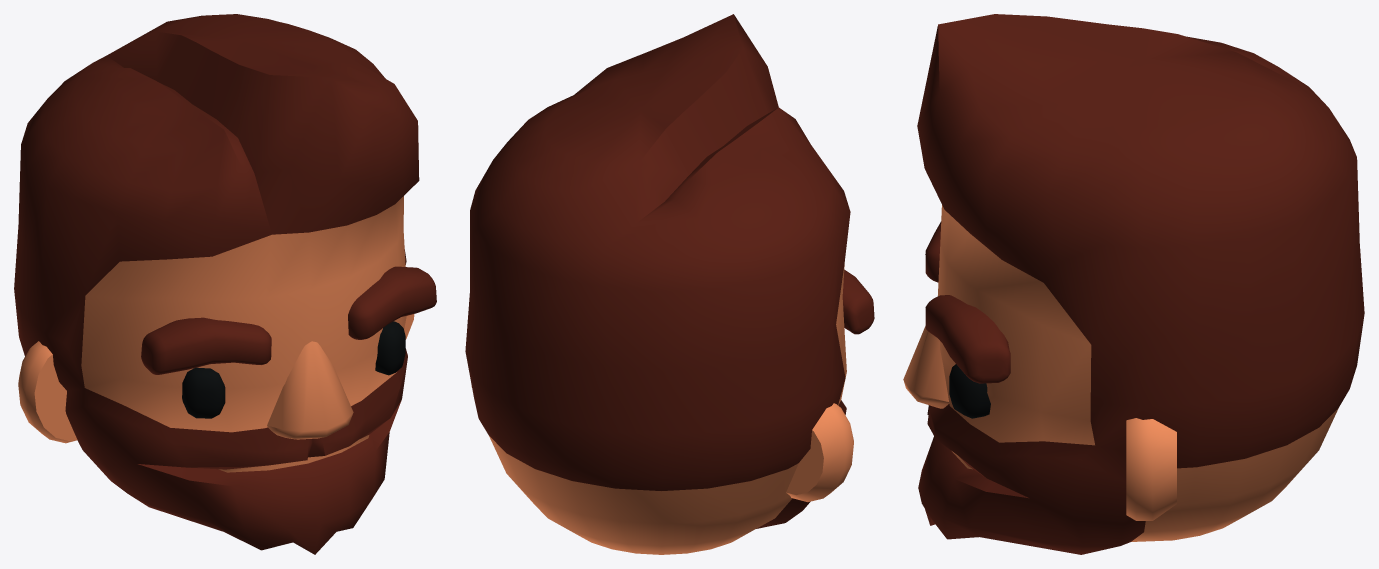
File: character_polarExplorerHeadB.obj
The picture shows the model from 3 angles, left to right: view 1: azimuth 30°, elevation 25°; view 2: azimuth 150°, elevation 25°; view 3: azimuth 270°, elevation 25°; orthographic projection. The views are drawn at different scales.
Parts seen in each view (by area): view 1: character_polarExplorerHeadB_Cube.4632; view 2: character_polarExplorerHeadB_Cube.4632; view 3: character_polarExplorerHeadB_Cube.4632.
Boxes of the visible parts, box(x1,y1,x2,y2) form: character_polarExplorerHeadB_Cube.4632: box(14, 14, 436, 554); character_polarExplorerHeadB_Cube.4632: box(465, 14, 874, 554); character_polarExplorerHeadB_Cube.4632: box(903, 14, 1364, 554).
Size of the model in its own units: 1.18 by 1.35 by 1.11.
